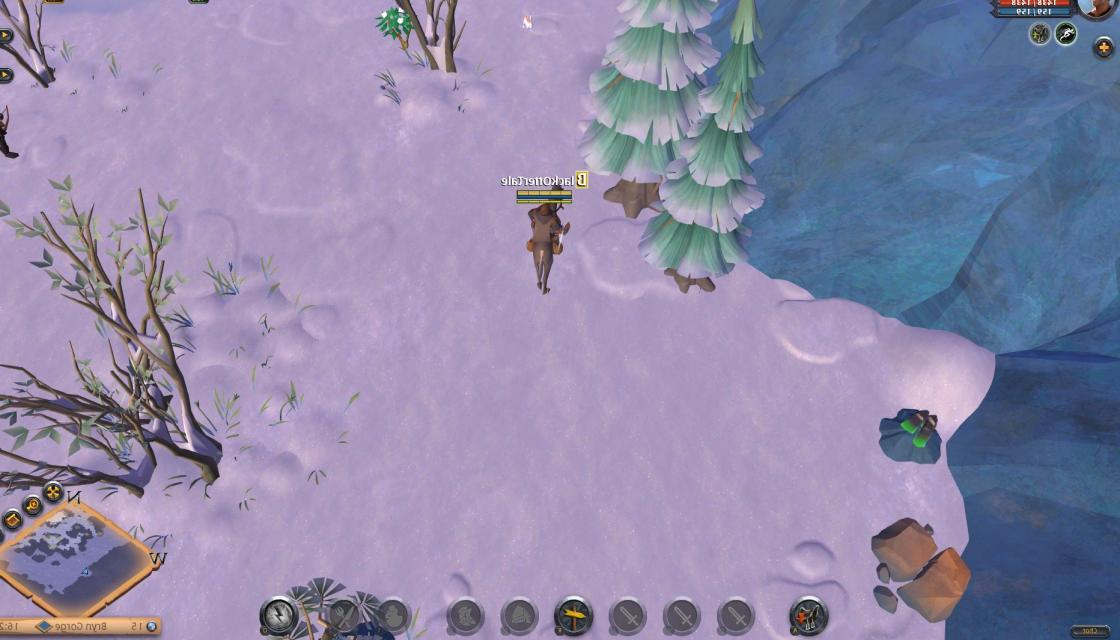limestone: (868, 510, 972, 622)
tinore: (878, 400, 948, 466)
